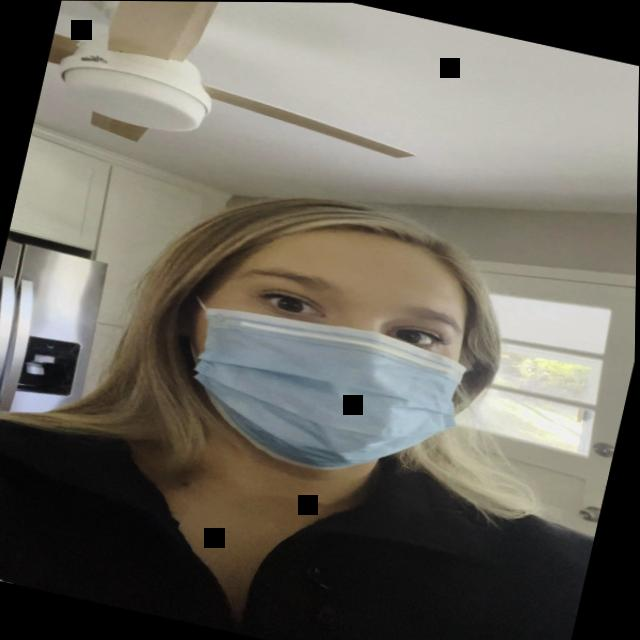Mask: (123, 171, 525, 508)
